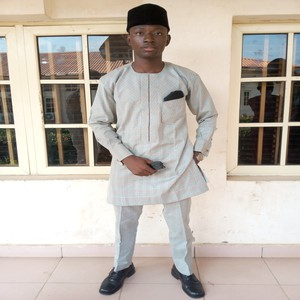Fulokoja_male_student: (97, 8, 204, 277)
